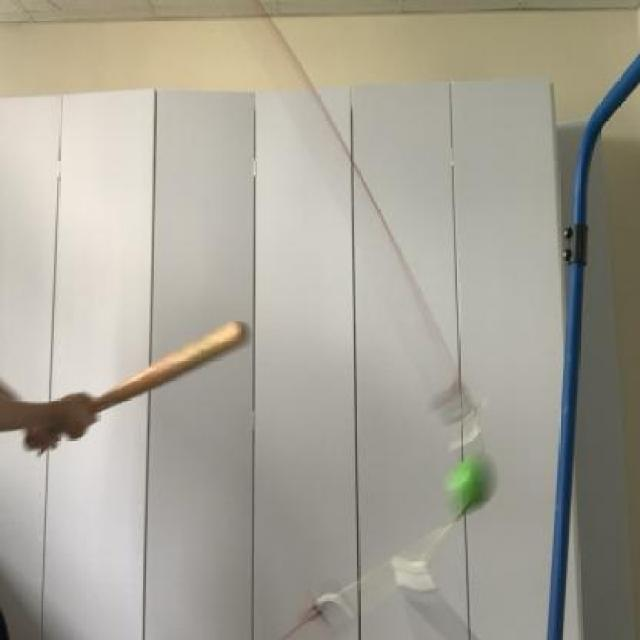baseball: (439, 448, 503, 528)
